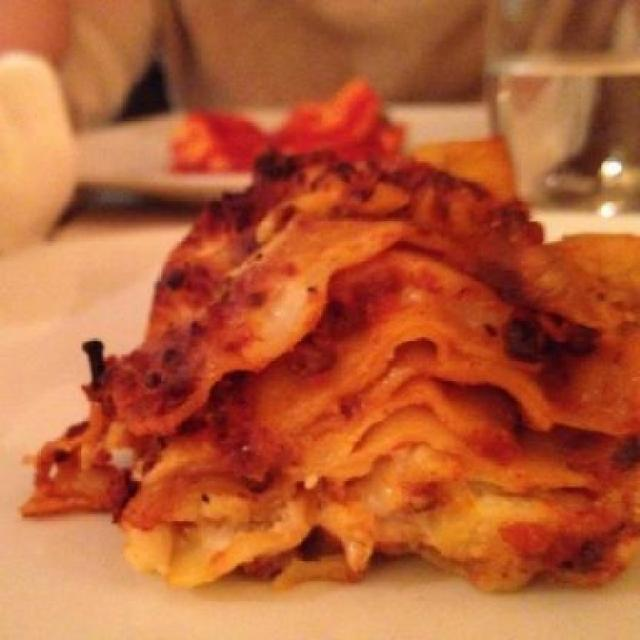Lasagna: (51, 109, 638, 602)
